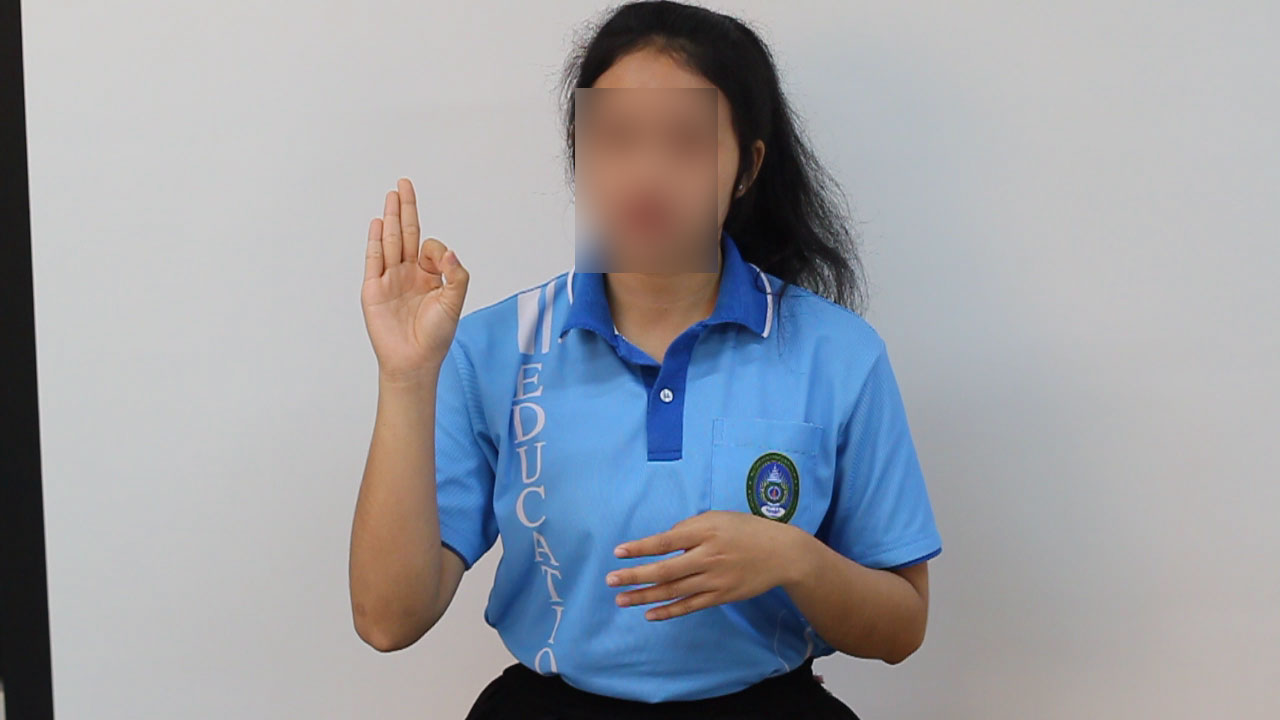for: (350, 168, 477, 398)
